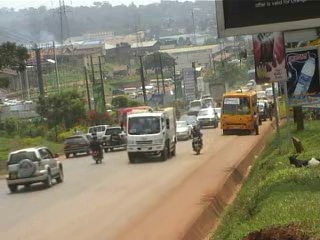Car: (4, 145, 65, 193), (62, 132, 92, 159), (102, 124, 129, 153), (174, 116, 189, 145), (180, 112, 201, 132), (185, 104, 200, 117)
Motorcycle: (86, 134, 105, 167), (190, 124, 203, 155)
